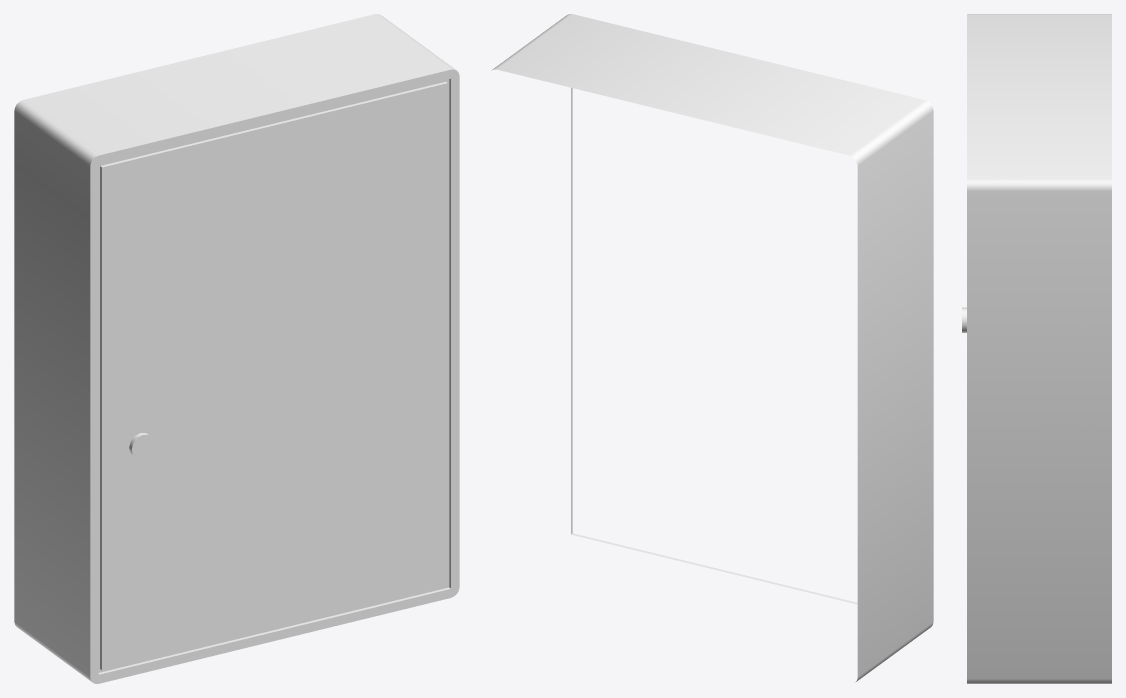
The picture shows the model from 3 angles, left to right: view 1: azimuth 30°, elevation 25°; view 2: azimuth 150°, elevation 25°; view 3: azimuth 270°, elevation 25°; orthographic projection. The views are drawn at different scales.
Visible parts, largest first — view 1: box_3010; view 2: box_3010; view 3: box_3010.
Boxes of the visible parts, box(x1,y1,x2,y2) form: box_3010: box(14, 14, 459, 683); box_3010: box(492, 14, 933, 682); box_3010: box(962, 14, 1111, 683).
Bounding box in the file's own units: 0.878 × 1.2 × 0.323.
Materials: 1 (1 with a texture image).
